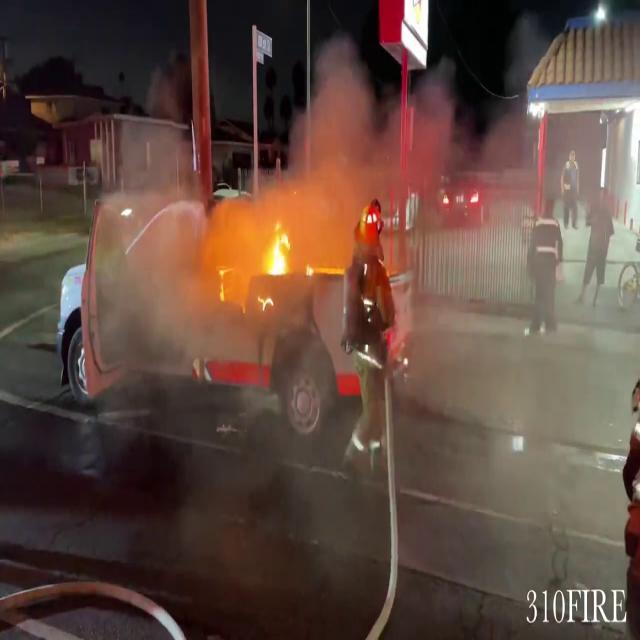Fire: (260, 216, 296, 282)
Smoke: (268, 18, 554, 374), (63, 110, 249, 398)
